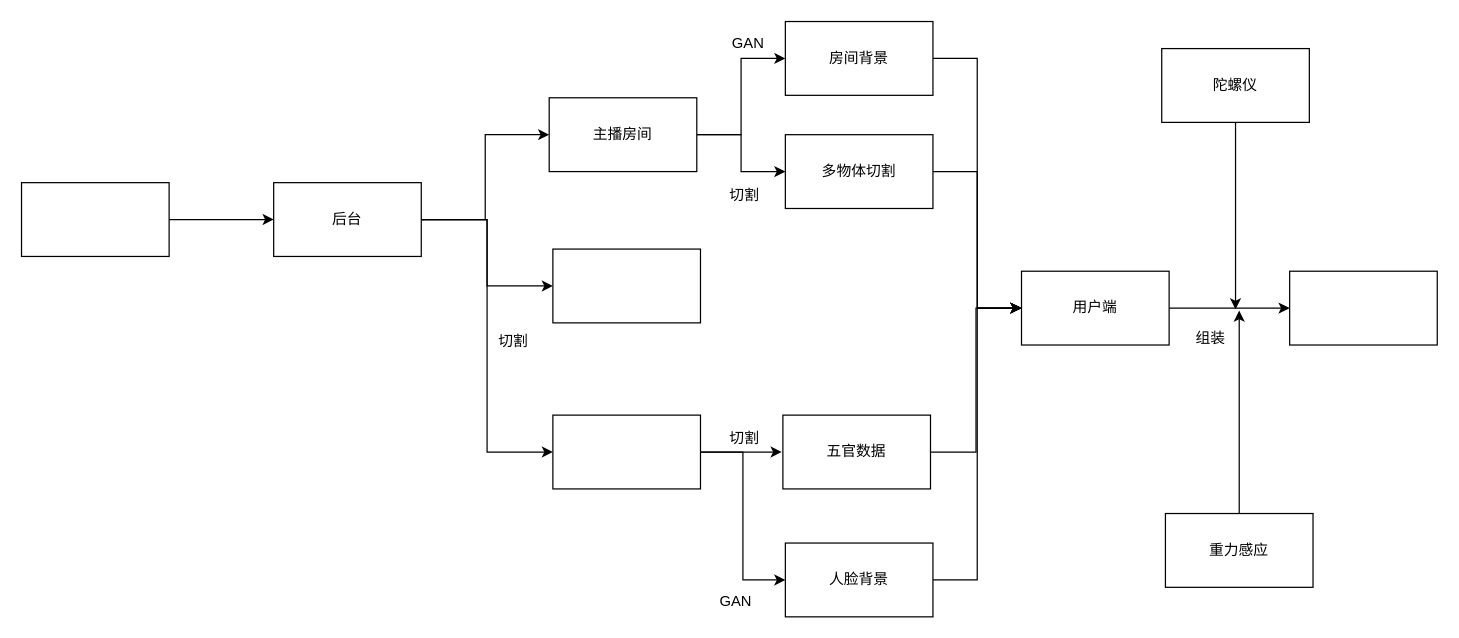
The diagram is 1459 pixels wide and 638 high, and some of its shapes have lost their labels. Here are the shapes that lost their labels. From the top down, the centre of each, then its label:
At pixel 94 218: "主播".
At pixel 626 285: "人体躯干".
At pixel 1362 307: "画面".
At pixel 626 451: "人脸".
